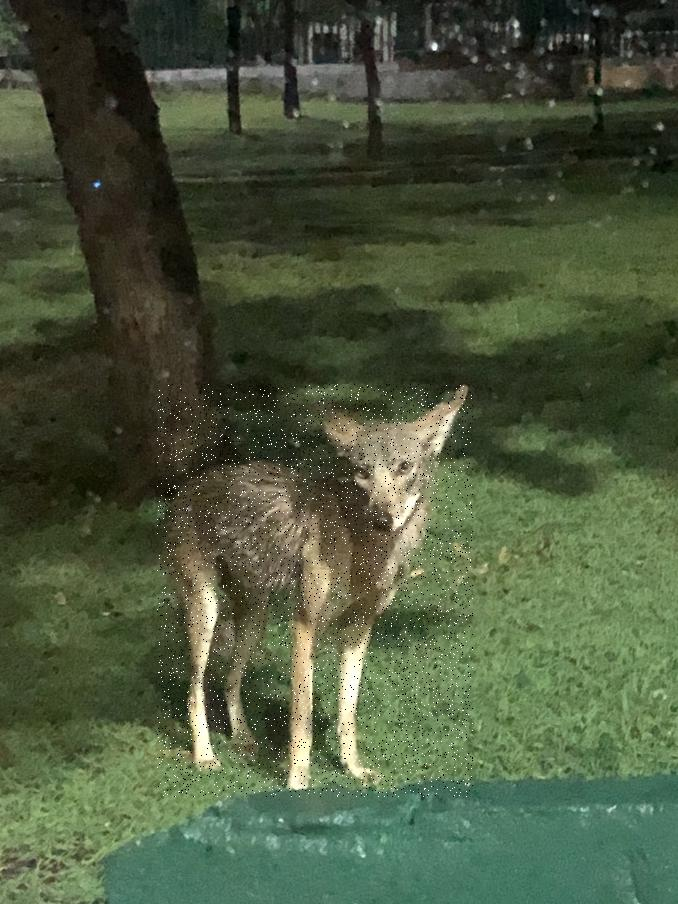Coyote: (157, 385, 473, 798)
